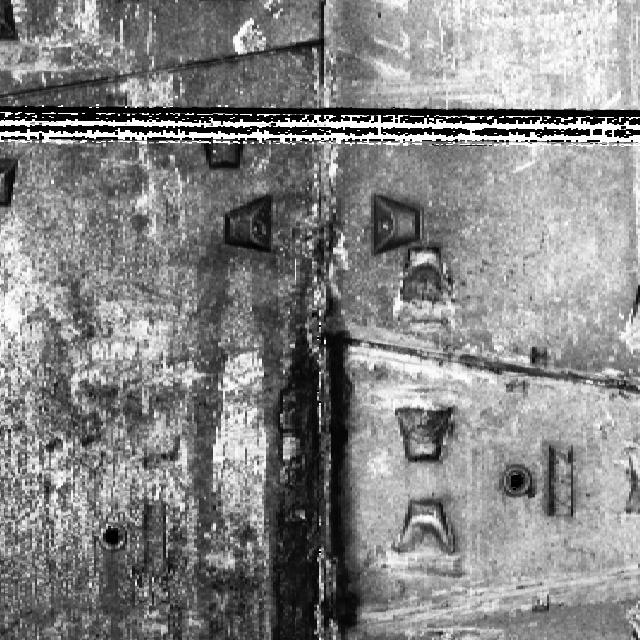leakage: (265, 161, 370, 639)
